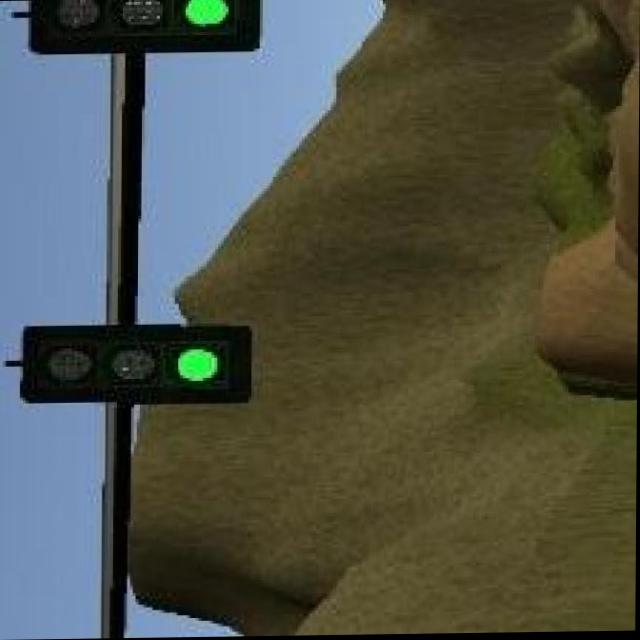green light: (27, 328, 253, 397), (26, 0, 263, 55)
